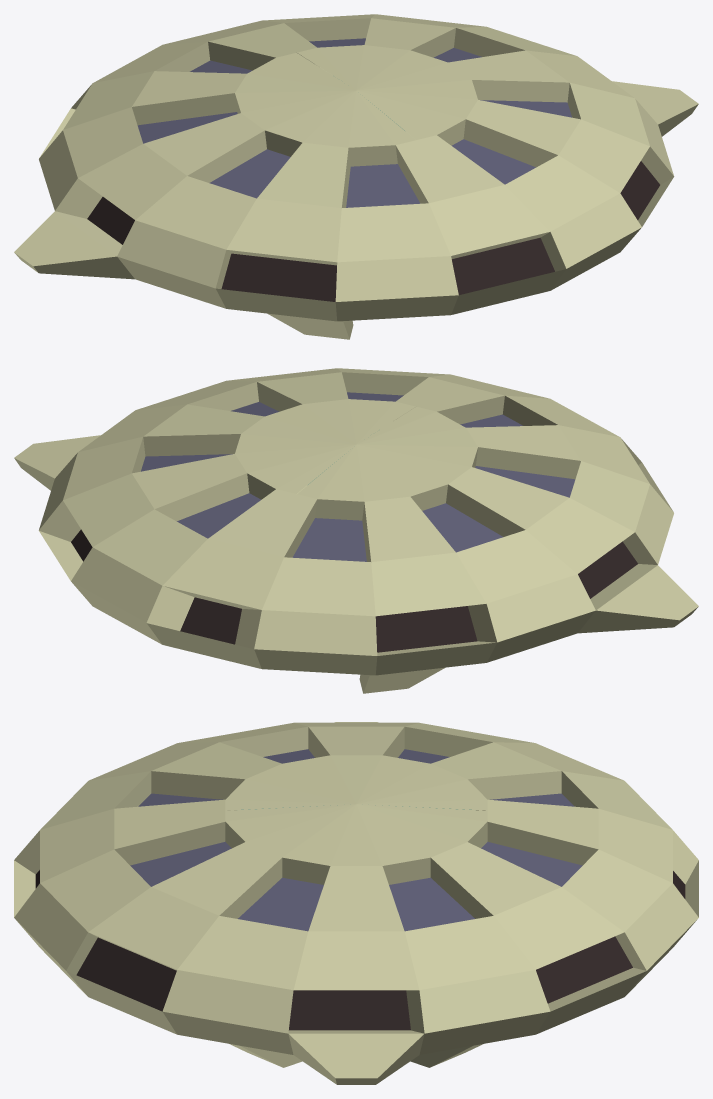
The model's file is MotherShip.glb.
The picture shows the model from 3 angles, top to bottom: view 1: azimuth 30°, elevation 25°; view 2: azimuth 150°, elevation 25°; view 3: azimuth 270°, elevation 25°; orthographic projection. The views are drawn at different scales.
Parts seen in each view (by area): view 1: MotherShip; view 2: MotherShip; view 3: MotherShip.
Part boxes in pixels (left/top/right/bottom): MotherShip: left=14, top=14, right=698, bottom=339; MotherShip: left=14, top=368, right=698, bottom=693; MotherShip: left=14, top=722, right=698, bottom=1084.
Bounding box in the file's own units: 14.89 × 4.44 × 12.1.
1 material, 1 textured.
